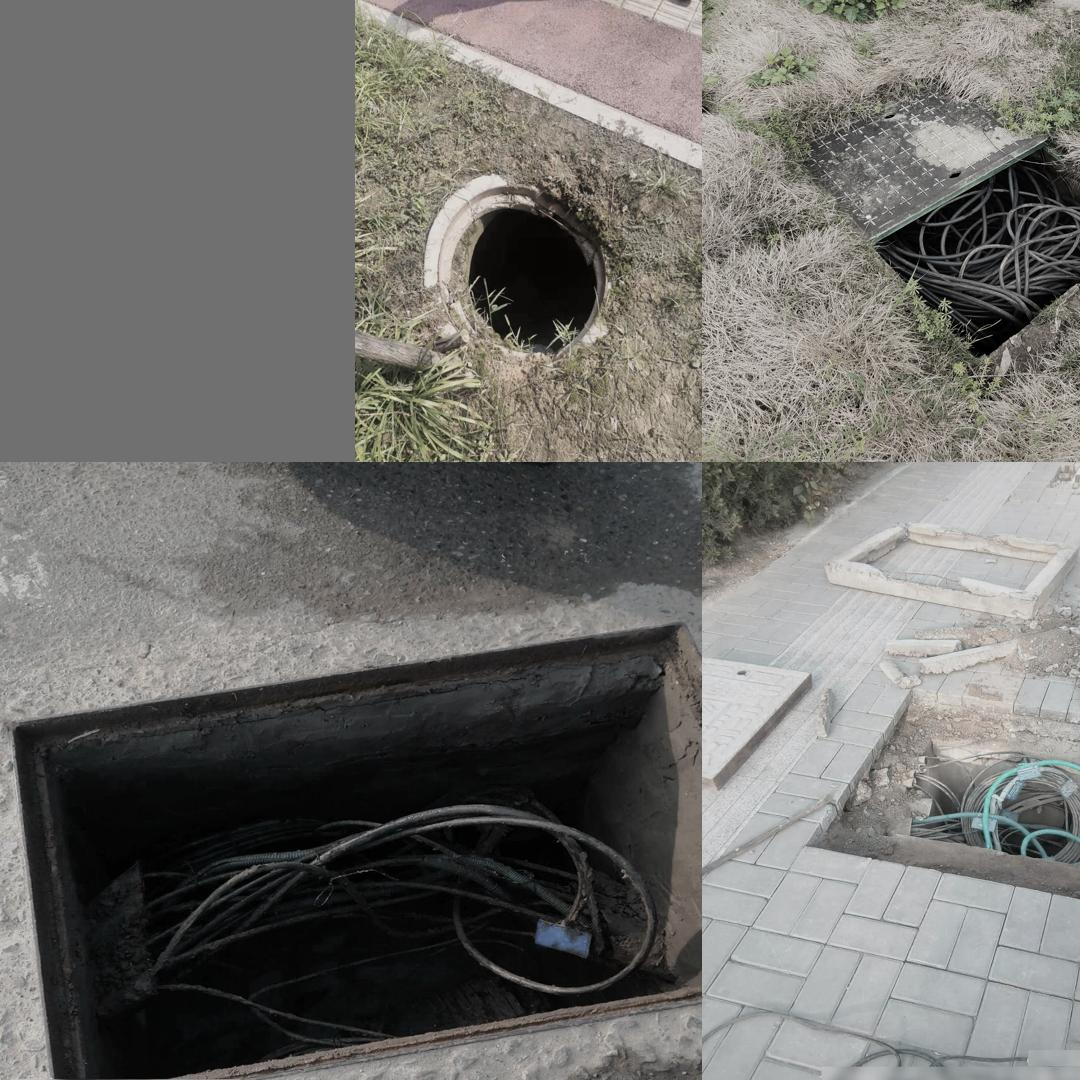lose: (9, 628, 700, 1032), (869, 137, 1080, 361), (423, 172, 612, 358), (870, 721, 1080, 881)
